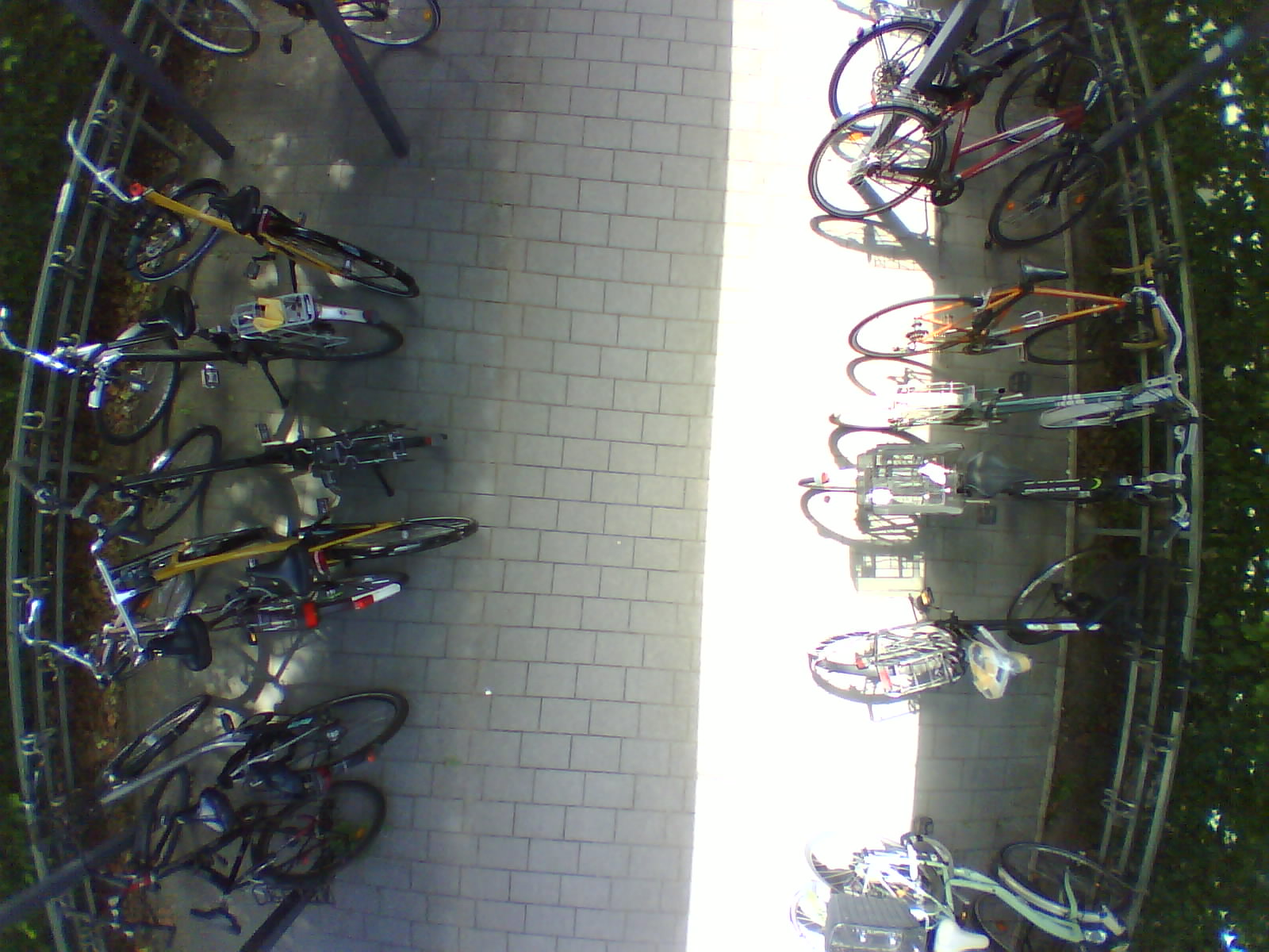bicylce: (810, 552, 1155, 726), (80, 788, 394, 940), (795, 435, 1196, 554), (805, 103, 1112, 250), (787, 825, 1139, 952), (73, 309, 407, 440), (49, 567, 414, 685), (828, 4, 1113, 145), (102, 418, 435, 538), (110, 174, 424, 301), (76, 685, 407, 801), (811, 367, 1199, 463), (78, 510, 487, 599), (844, 258, 1183, 364)
saddle: (135, 612, 221, 679), (153, 778, 235, 846), (962, 439, 1035, 508), (964, 638, 1037, 703), (200, 177, 269, 239), (133, 288, 201, 345), (247, 552, 321, 601), (1011, 247, 1078, 301), (923, 906, 998, 952), (951, 43, 1008, 91), (188, 898, 242, 943)
